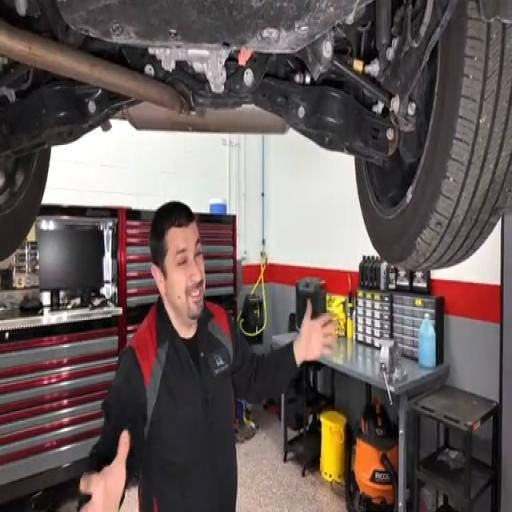exhaust: (115, 103, 288, 133)
tire: (356, 0, 511, 268), (0, 148, 51, 260)
wheel: (356, 0, 511, 268), (0, 148, 51, 260)
